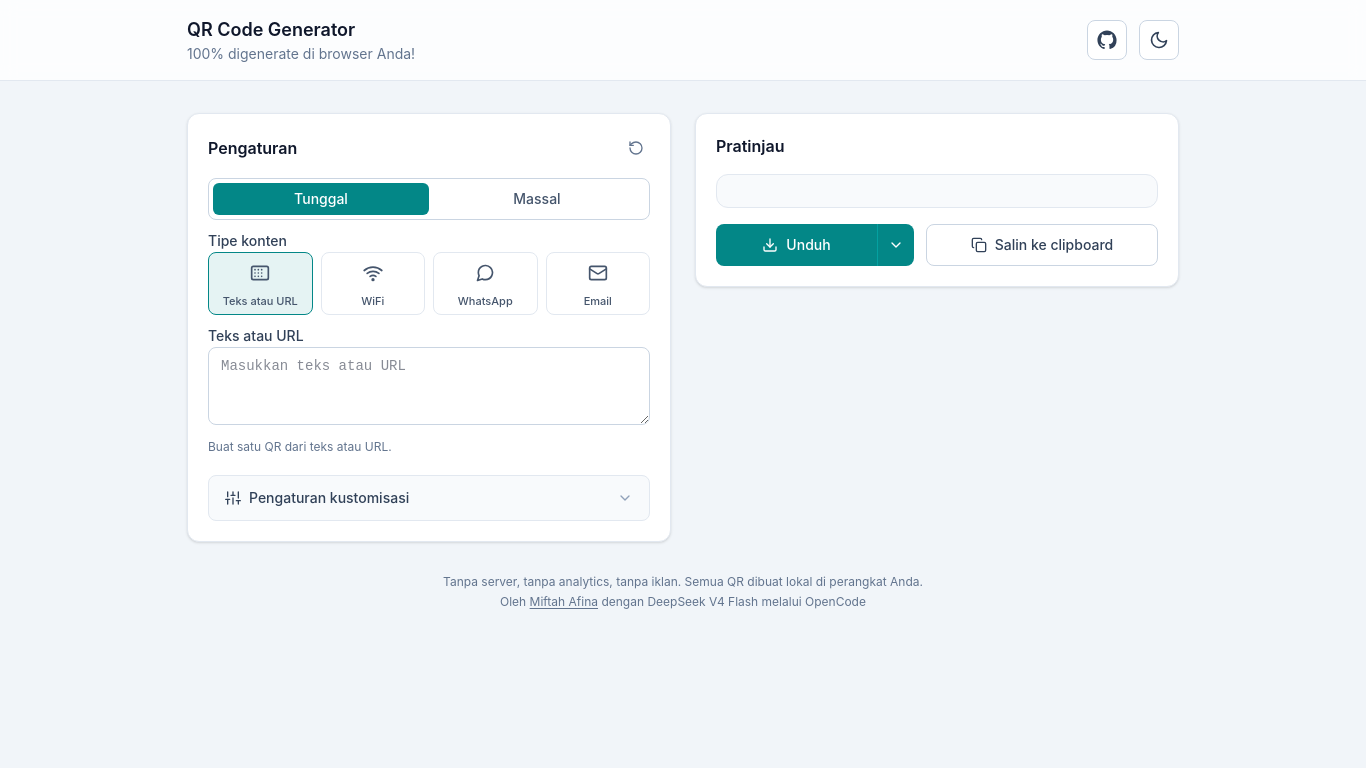
Test case: App › beralih ke tab massal dan menyembunyikan tombol salin
The width and height of the screenshot is (1366, 768).
Click the tab "Massal".
click(537, 199)  # box [429, 183, 645, 215]
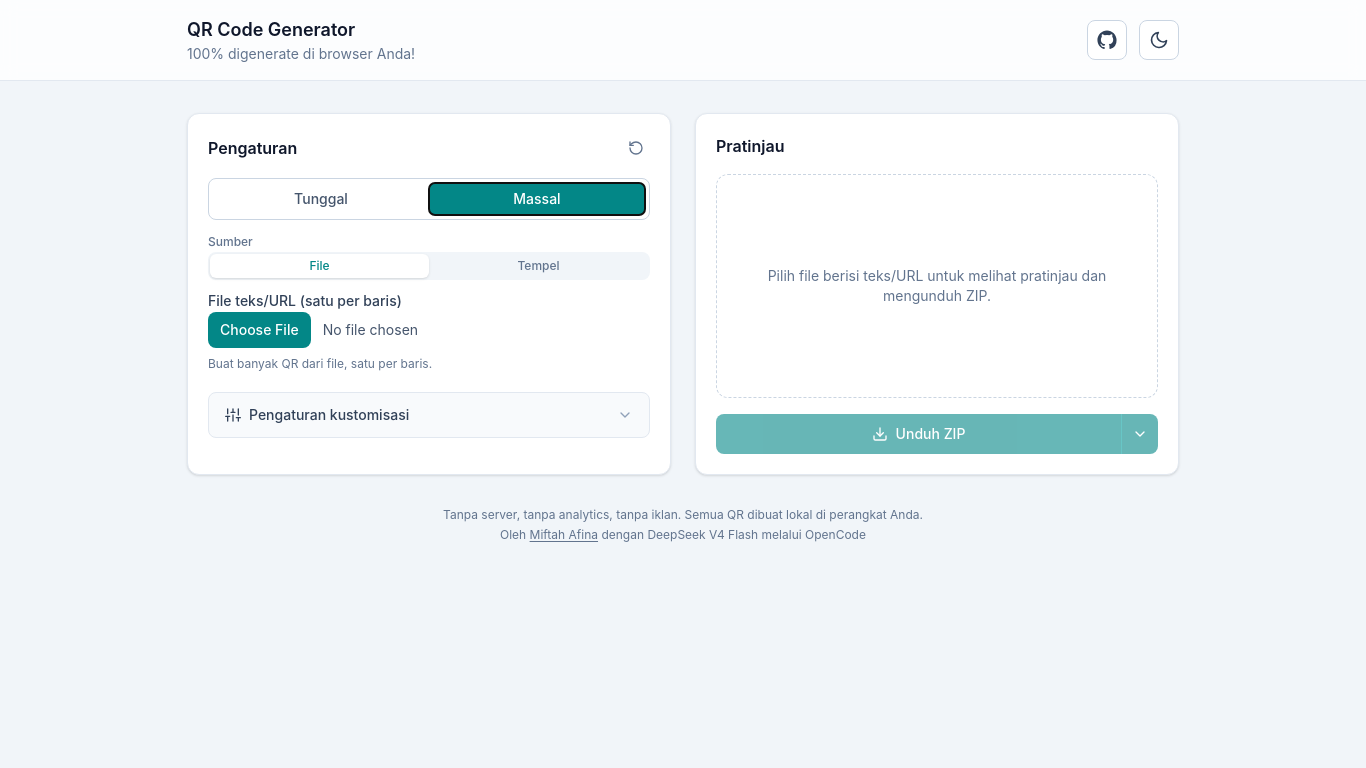
expect the file field labelled "File teks/URL (satu per baris)" is shown: met, box [208, 312, 650, 348]
expect the button "Unduh ZIP" is shown: met, box [716, 414, 1121, 454]
expect the button "Salin ke clipboard" is gone: met
